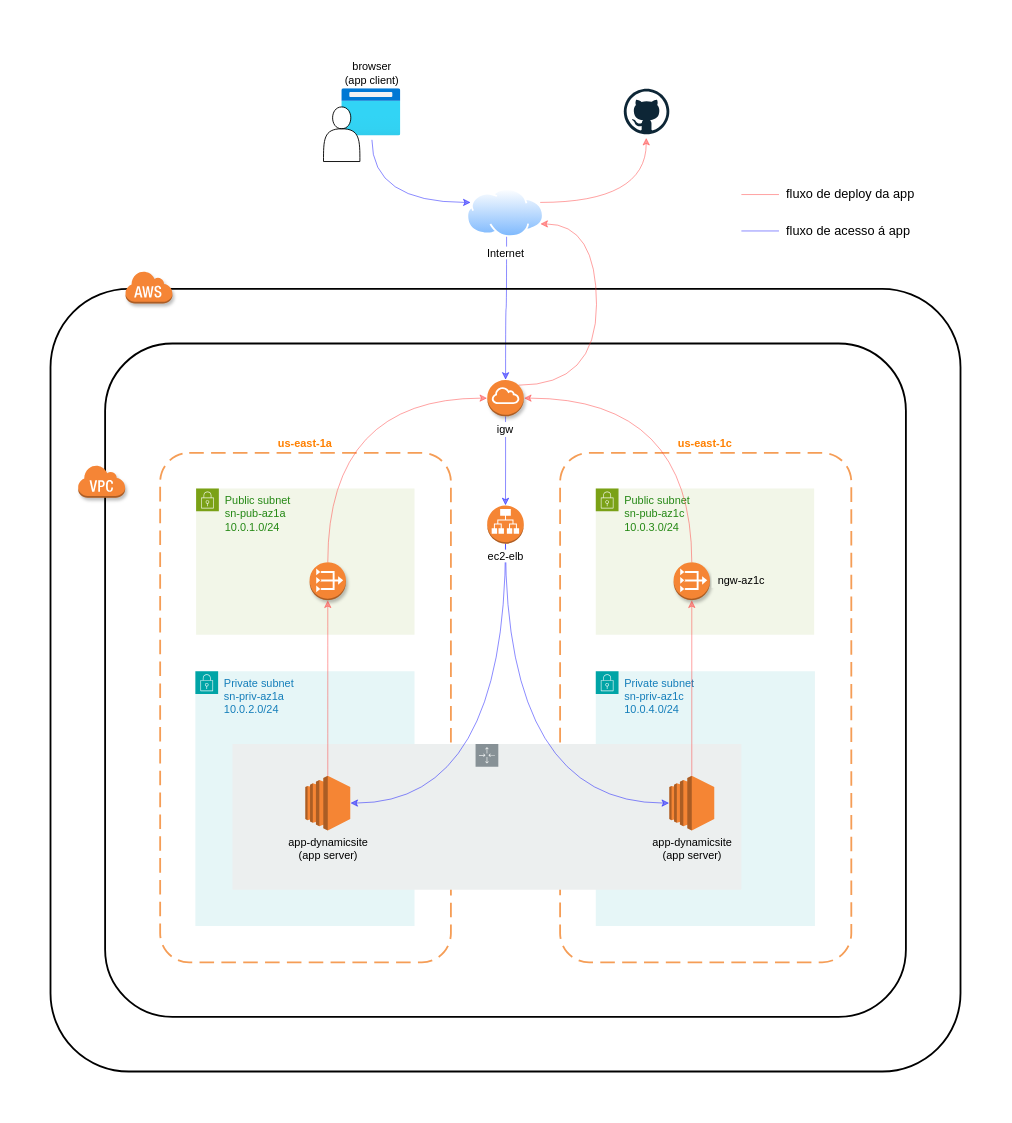
This 1012x1123 diagram has some shape labels left out. The shapes that lost their labels are listed below. From the top down, each one's centre as x and y in pixels, then its label:
[646,111]: repo da app
[341,134]: user
[149,288]: us-east-1
[102,482]: vpc 10.0.0.0/16
[328,582]: ngw-az1a
[486,816]: Auto Scaling Group ec2-asg
